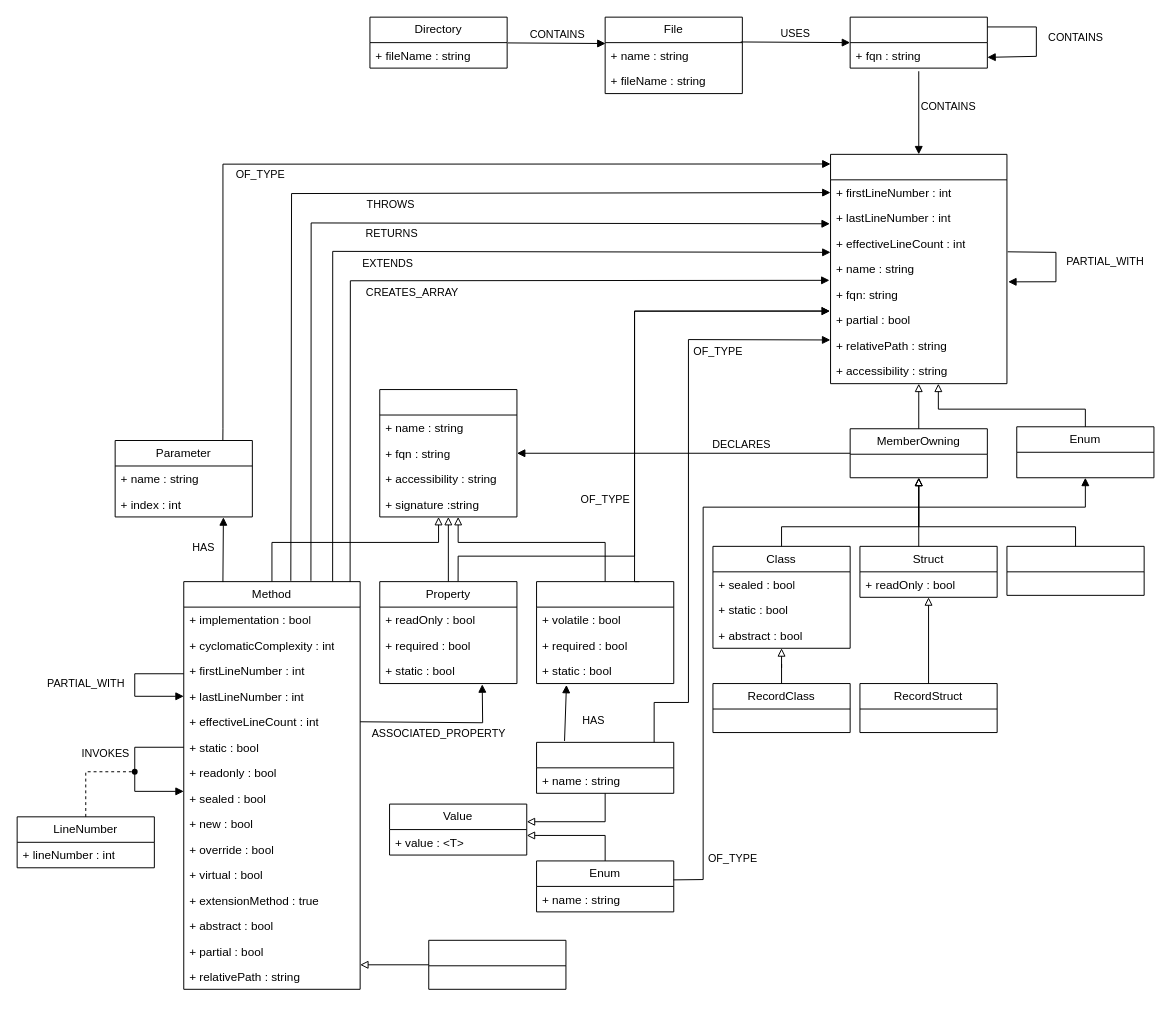
The diagram is 1171 pixels wide and 1009 high, and some of its shapes have lost their labels. Each missing label, with the box of its shape:
Constructor: (428, 939, 566, 989)
Field: (536, 581, 674, 684)
Interface: (1006, 545, 1144, 595)
Member: (379, 389, 517, 517)
NameSpace: (849, 16, 987, 68)
Primitive: (536, 741, 674, 793)
Type: (830, 153, 1007, 384)
